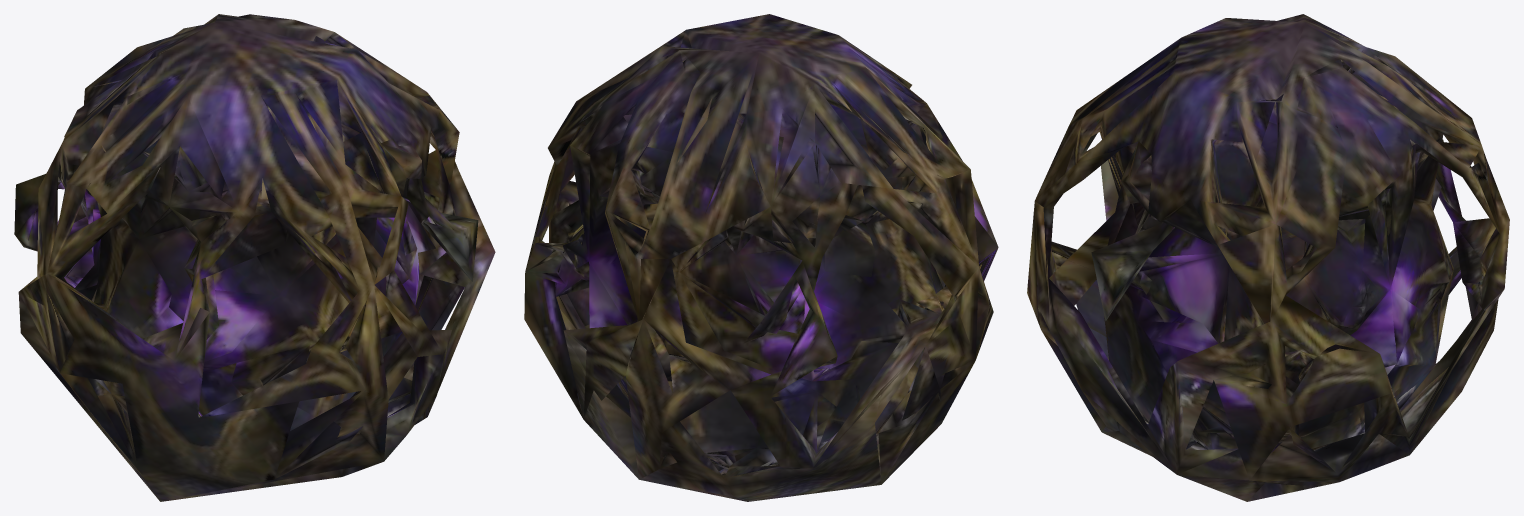
The model's file is orbOfDeath.fbx.
3 views of the same model, side by side, from view 1: azimuth 30°, elevation 25°; view 2: azimuth 150°, elevation 25°; view 3: azimuth 270°, elevation 25° (orthographic).
Parts seen in each view (by area): view 1: mesh; view 2: mesh; view 3: mesh.
Boxes of the visible parts, <box> form: mesh: <box>14,14,495,501</box>; mesh: <box>524,14,998,501</box>; mesh: <box>1027,14,1509,501</box>.
Size of the model in its own units: 99.24 by 101 by 99.51.
